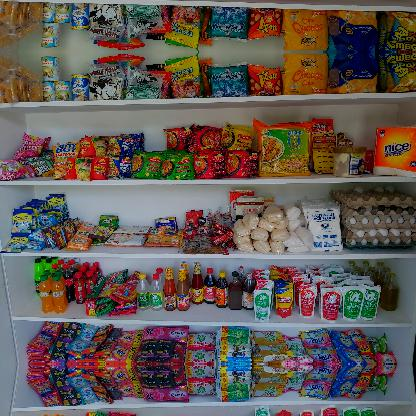Lady-s-Choice: (332, 146, 366, 176)
